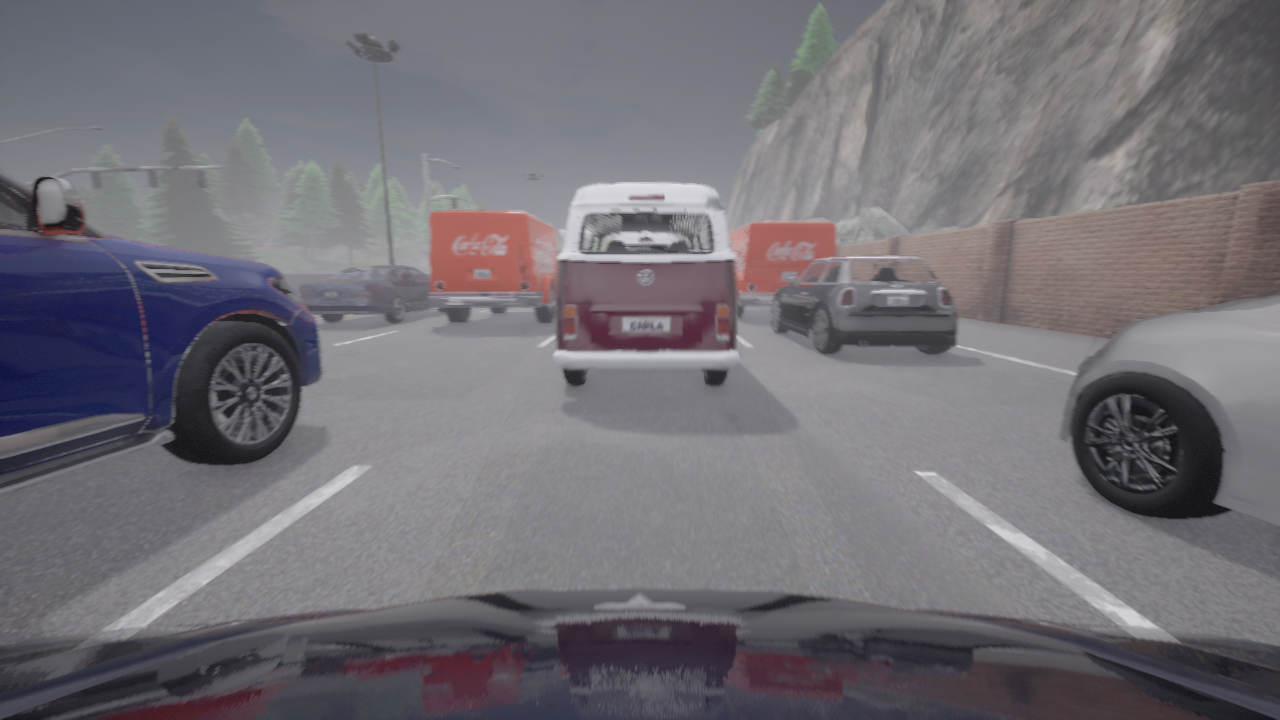cyclist: (0, 588, 1279, 719), (1060, 293, 1279, 525), (553, 183, 739, 386), (771, 256, 957, 354), (428, 211, 559, 323), (729, 221, 835, 317), (300, 266, 445, 322)
